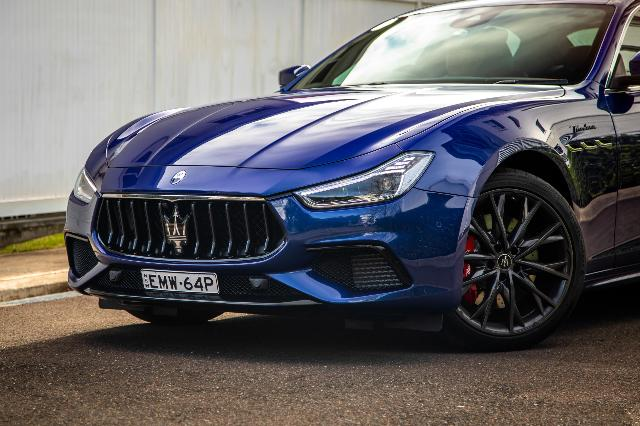maserati: (62, 0, 640, 350)
